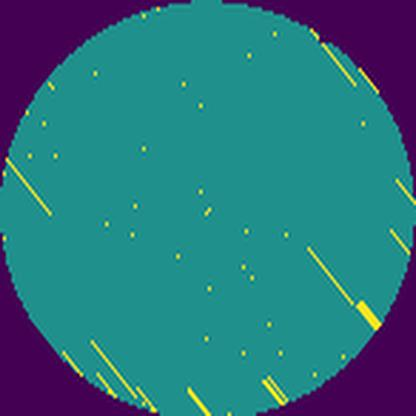Scratch: (89, 339, 144, 398), (6, 156, 56, 220), (306, 245, 356, 308), (387, 224, 412, 259), (393, 178, 416, 209)
